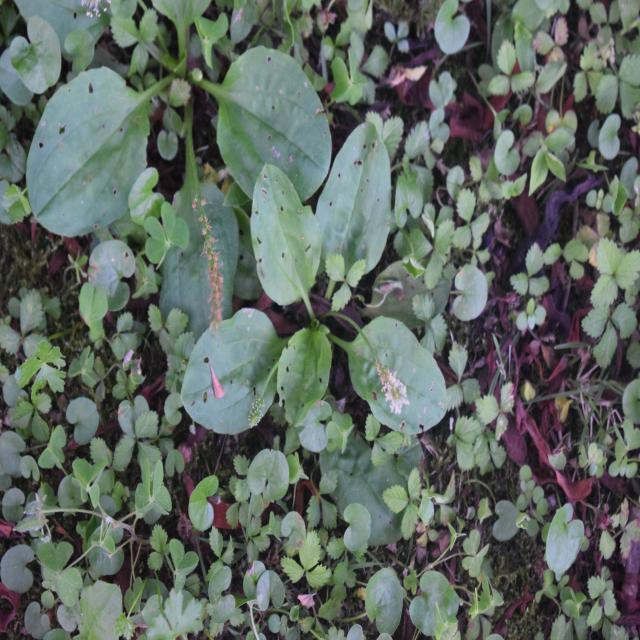plantain: (193, 116, 432, 475)
